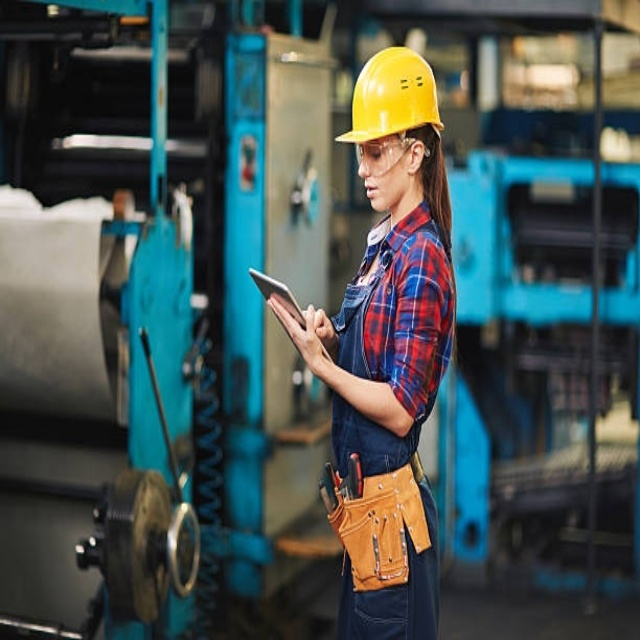Gafas: (356, 135, 417, 171)
Sin_guantes: (267, 296, 332, 374)
Sin_mascara: (364, 179, 389, 209)
